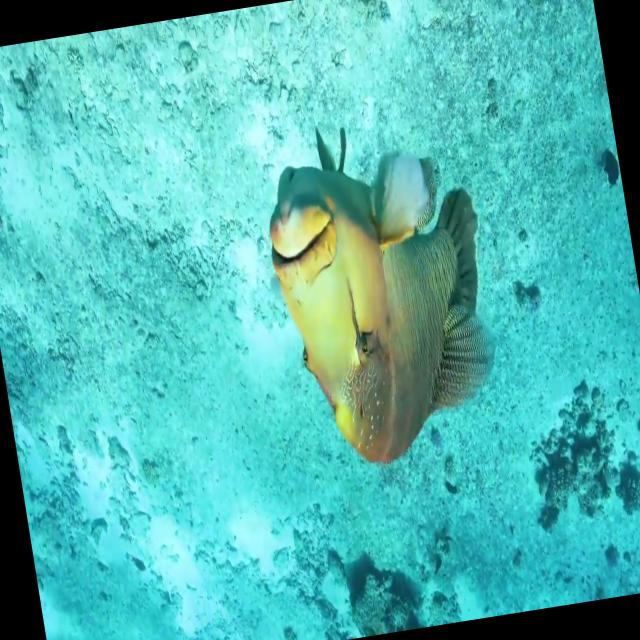fish: (243, 100, 517, 492)
